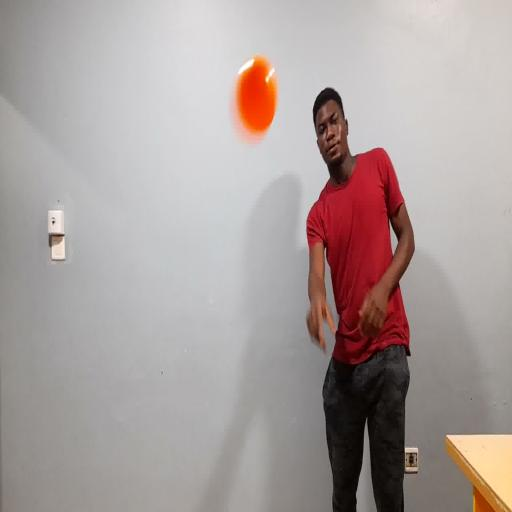plastic-ball: (228, 52, 285, 149)
